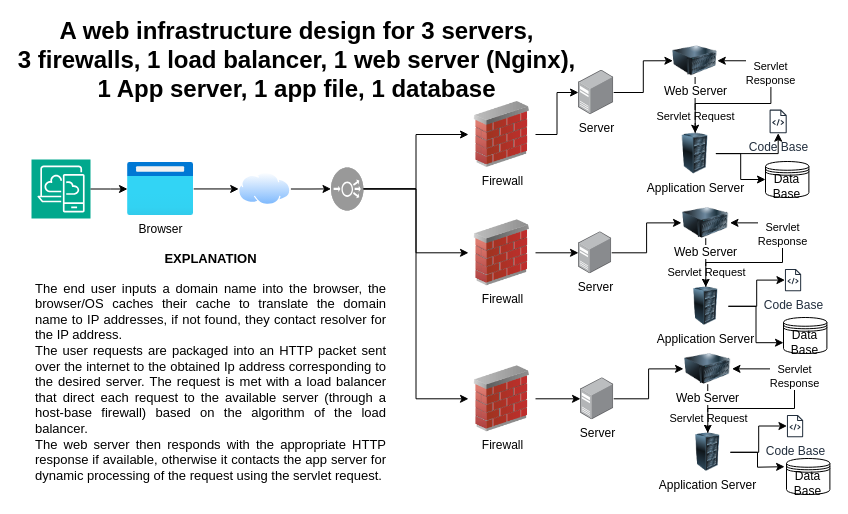
Some shapes in this 848 by 514 pixel diagram are drawn without their labels. Each missing label, with the centre of its shape:
"End User" goes at point 60,188.
"Internet" goes at point 264,188.
"Load Balance (HAproxy)" goes at point 347,188.
